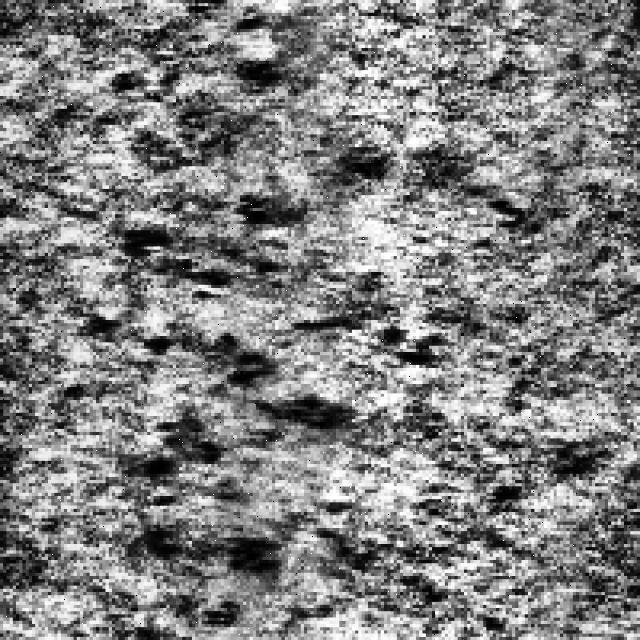Crazing: (73, 170, 460, 473), (122, 317, 374, 637)
